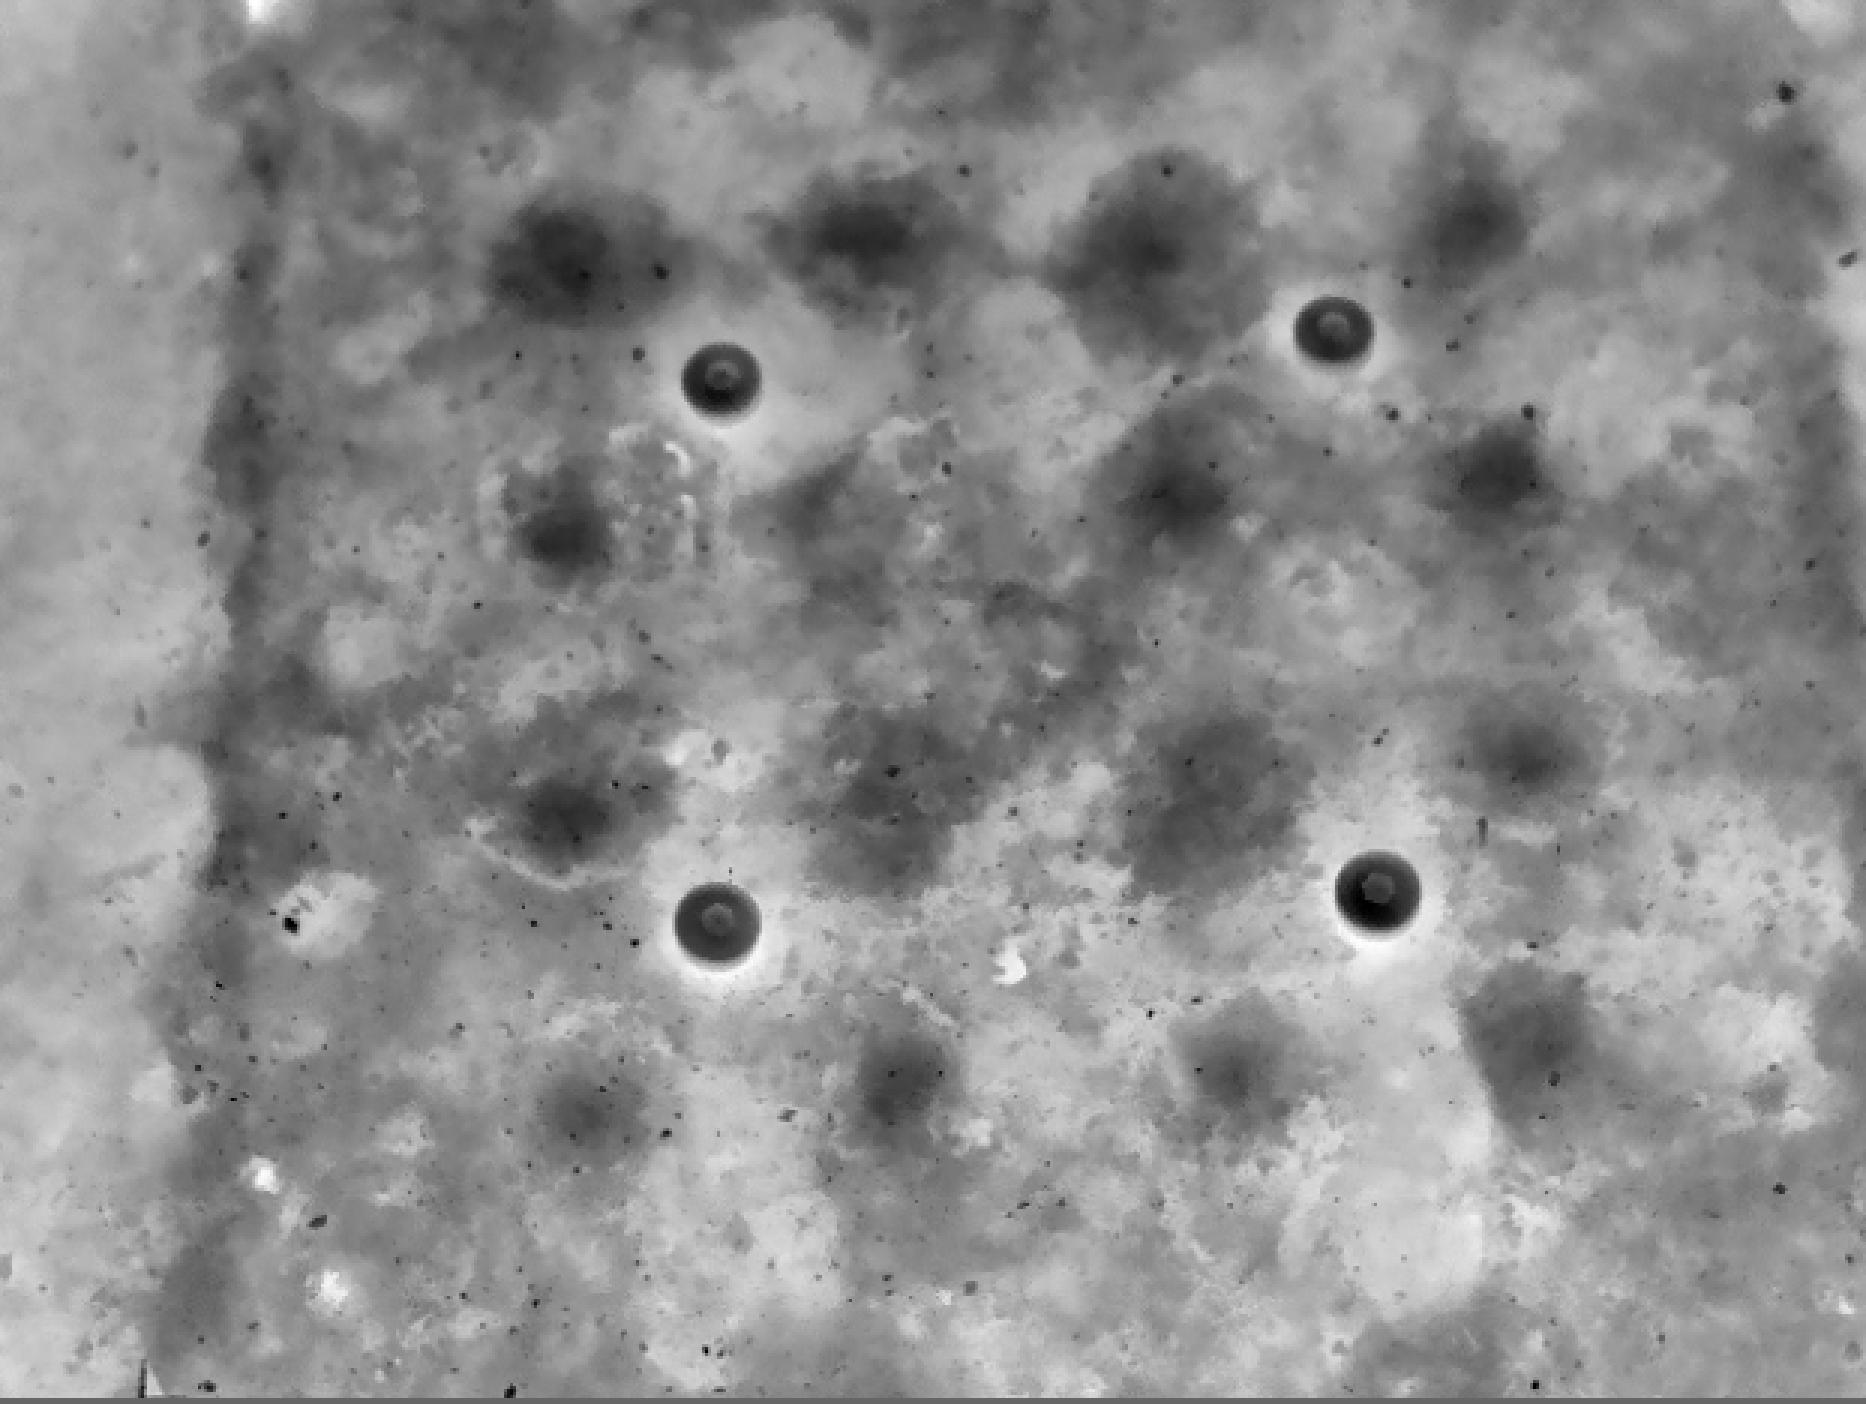mines-gjV8: (1328, 852, 1435, 931), (673, 882, 769, 953), (684, 335, 757, 413), (1303, 292, 1379, 363)
